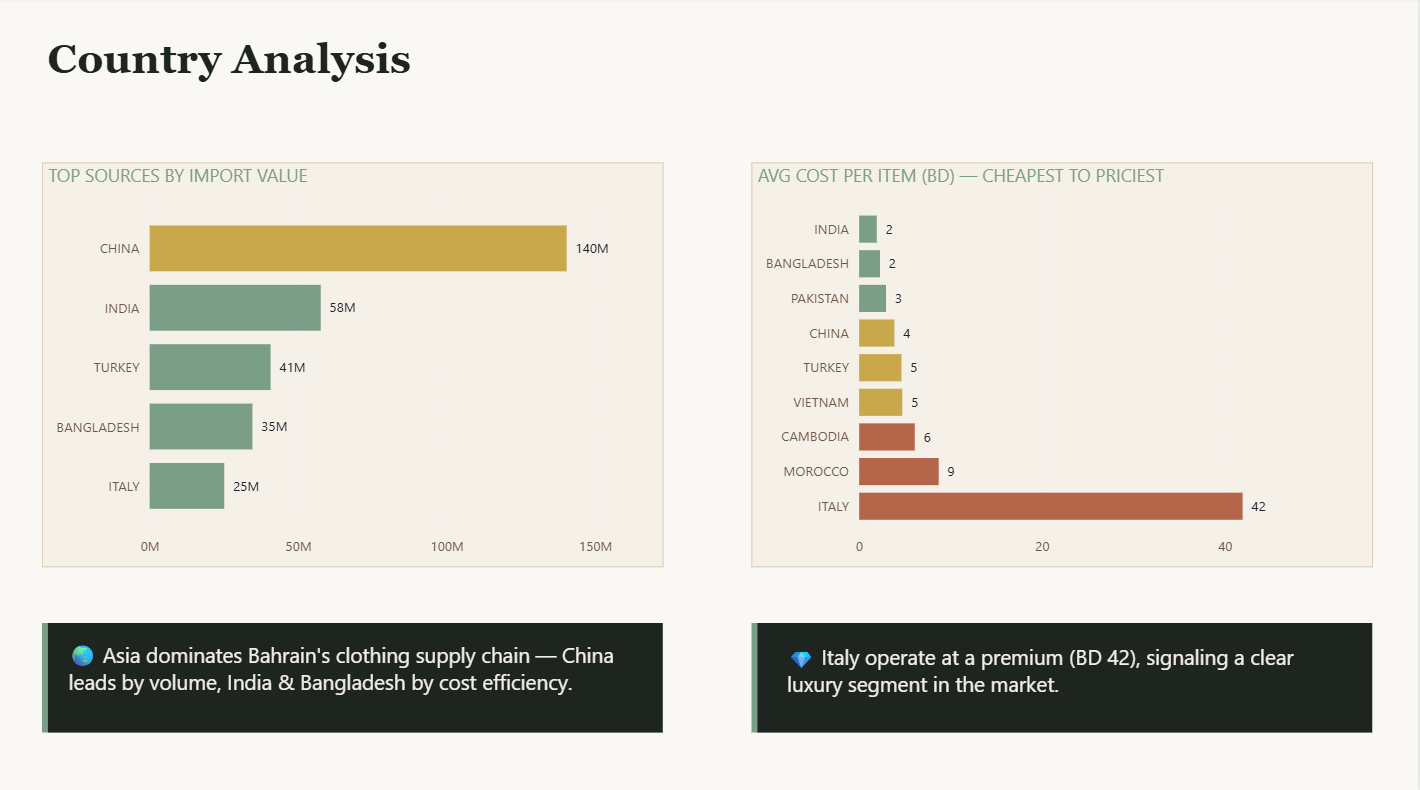

What the dashboard file says about the page in this screenshot:
{"tool":"powerbi","page":{"name":"Country Analysis","canvas":[1280,720],"ordinal":6},"visuals":[{"type":"shape","box":[40.6,565,559.6,98.7],"z":0,"group":"g1"},{"type":"shape","box":[679.9,565,559.6,98.7],"z":0,"group":"g2"},{"type":"textbox","box":[40.6,29.7,381.2,91.9],"z":1000},{"type":"textbox","box":[59.5,575.5,520.4,77],"z":1000,"group":"g1"},{"type":"textbox","box":[706.9,577.2,505.5,77],"z":1000,"group":"g2"},{"type":"clusteredBarChart","title":"TOP SOURCES BY IMPORT VALUE","fields":{"Category":["fast_fashion_imports.country_name"],"Y":["Sum(fast_fashion_imports.import_value_bd)"]},"box":[40.6,150,560,365],"z":2000},{"type":"clusteredBarChart","title":"AVG COST PER ITEM (BD) — CHEAPEST TO PRICIEST","fields":{"Category":["fast_fashion_imports.country_name"],"Y":["fast_fashion_imports.Avg Price per Unit"]},"box":[680,150,560,365],"z":3000},{"type":"group","id":"g1","title":"Group 3","box":[40.6,565,559.6,98.7],"z":4000},{"type":"group","id":"g2","title":"Group 4","box":[679.9,565,559.6,98.7],"z":5000}]}

Visuals, with their boxes in screenshot pixels (x1, y1, x2, y2), scaled from the page's 1280x720 canvas onto the 1420x790 screenshot:
shape: [left=45, top=620, right=666, bottom=728]
shape: [left=754, top=620, right=1375, bottom=728]
textbox: [left=45, top=33, right=468, bottom=133]
textbox: [left=66, top=631, right=643, bottom=716]
textbox: [left=784, top=633, right=1345, bottom=718]
"TOP SOURCES BY IMPORT VALUE" clusteredBarChart: [left=45, top=165, right=666, bottom=565]
"AVG COST PER ITEM (BD) — CHEAPEST TO PRICIEST" clusteredBarChart: [left=754, top=165, right=1376, bottom=565]
"Group 3" group: [left=45, top=620, right=666, bottom=728]
"Group 4" group: [left=754, top=620, right=1375, bottom=728]
